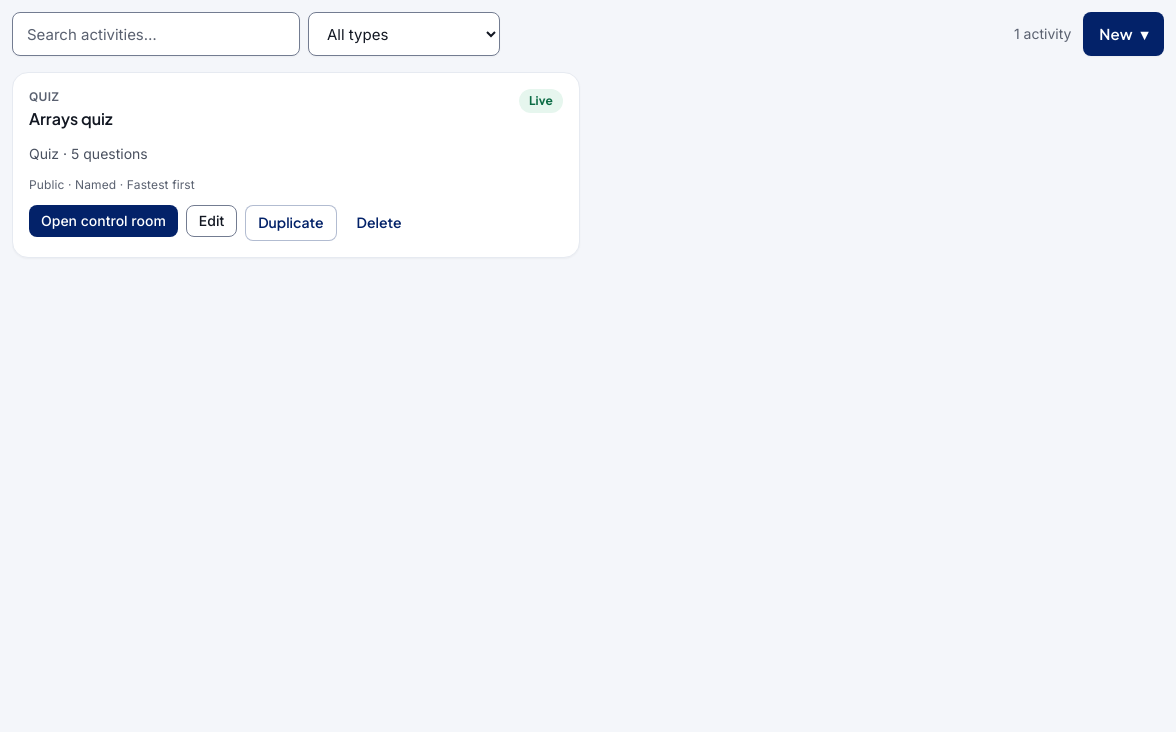
Scenario: EngageActivities (TRN-020) › duplicates through POST …/duplicate with an idempotency key
Click the button with aria-label "Duplicate Arrays quiz". click: x=291, y=223
box: x1=245 y1=205 x2=336 y2=241
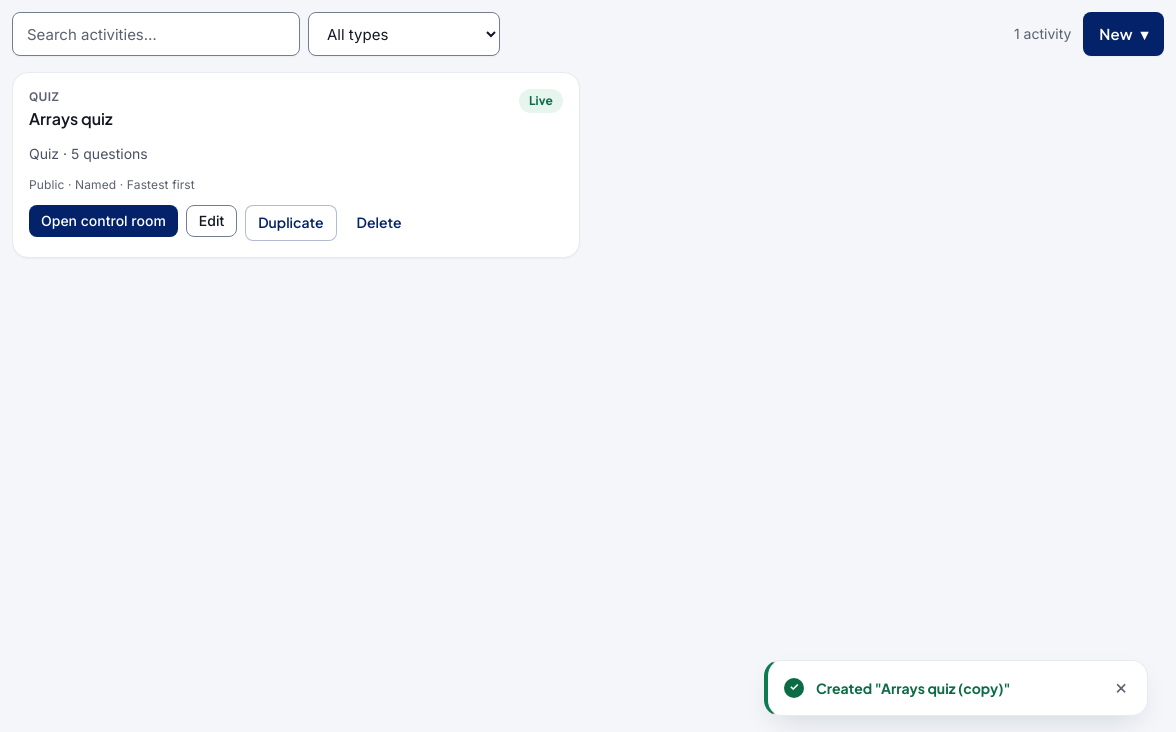
Expected: the text "Created \"Arrays quiz (copy)\"" is shown, x1=816 y1=679 x2=1011 y2=697
